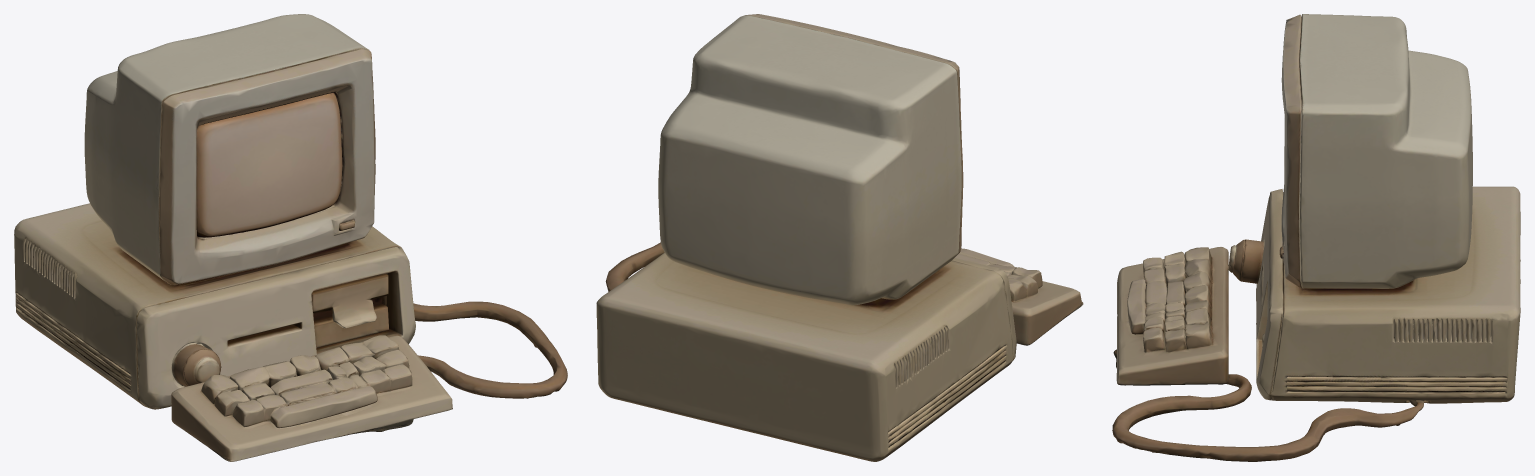
File: vintage_computer_3d_model.fbx
The picture shows the model from 3 angles, left to right: view 1: azimuth 30°, elevation 25°; view 2: azimuth 150°, elevation 25°; view 3: azimuth 270°, elevation 25°; orthographic projection. The views are drawn at different scales.
Parts seen in each view (by area): view 1: tripo_node_3b207e89; view 2: tripo_node_3b207e89; view 3: tripo_node_3b207e89.
Part boxes in pixels (x1,y1,x2,y2): tripo_node_3b207e89: (14,14,567,461); tripo_node_3b207e89: (596,14,1083,461); tripo_node_3b207e89: (1112,14,1520,461).
Bounding box in the file's own units: 0.9805 × 0.7271 × 0.9233.
